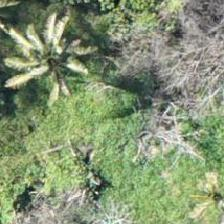Kelapa_Sawit: (8, 23, 98, 113)
